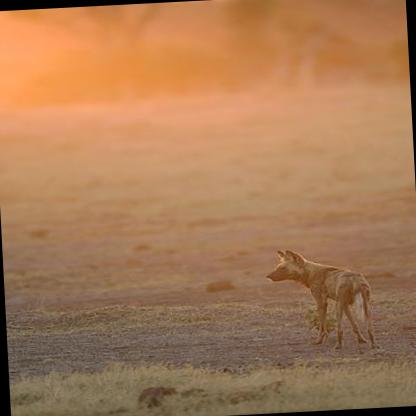African_hunting_dog: (266, 245, 374, 353)
